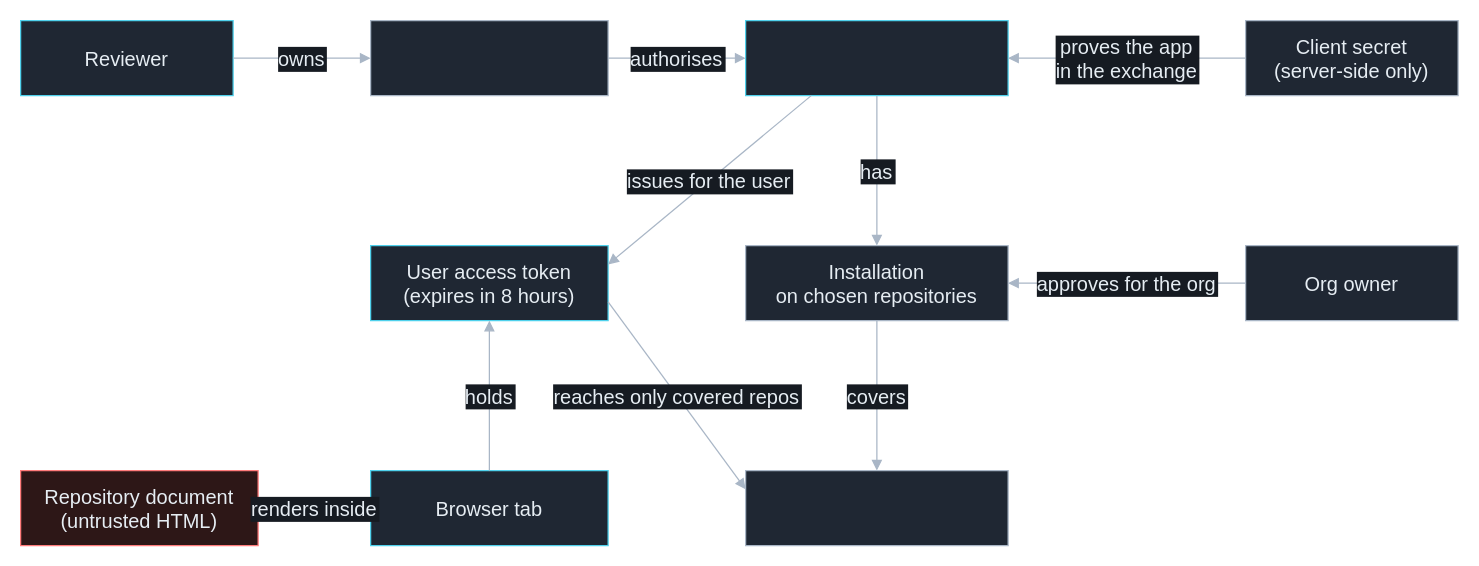
The diagram is 1479 pixels wide and 566 high, and some of its shapes have lost their labels. The centre of each missing label's shape, as x and y in pixels:
"GitHub account" belongs at pixel 488 57.
"MarDoc GitHub App" belongs at pixel 876 57.
"Repositories" belongs at pixel 876 507.
